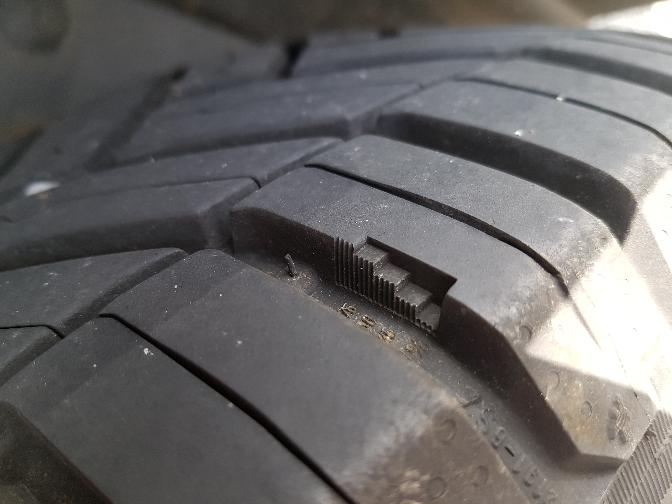temoin:90: (324, 228, 463, 342)
